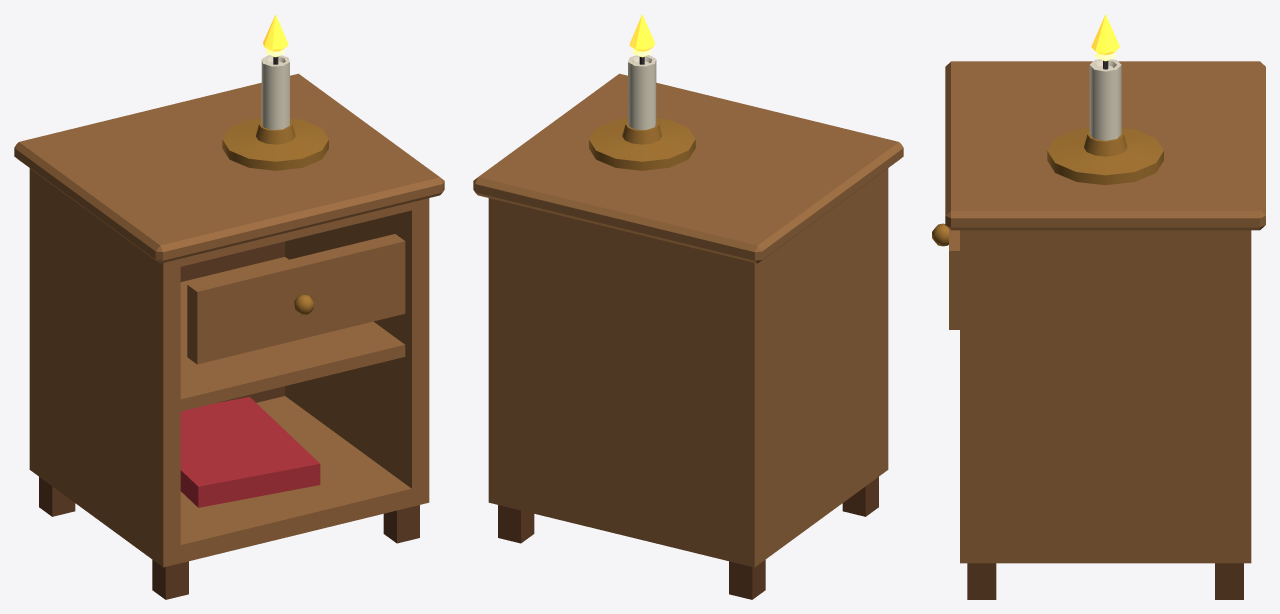
Rendered from nightstand.glb.
3 renders of one model, left to right at view 1: azimuth 30°, elevation 25°; view 2: azimuth 150°, elevation 25°; view 3: azimuth 270°, elevation 25°, orthographic. The views are drawn at different scales.
Visible parts, largest first — view 1: Bedside table case, Bedside table top, Bedside table drawer, Bedside table book, Bedside table shelf, Candle holder, Bedside table legs, Candle, Candle flame; view 2: Bedside table case, Bedside table top, Candle holder, Bedside table legs, Candle, Candle flame; view 3: Bedside table case, Bedside table top, Candle holder, Candle, Bedside table legs, Bedside table drawer, Candle flame.
Part boxes in pixels (x1=…): Bedside table case: x1=29, y1=168, x2=429, y2=567; Bedside table top: x1=14, y1=73, x2=444, y2=263; Bedside table drawer: x1=187, y1=234, x2=405, y2=364; Bedside table book: x1=180, y1=397, x2=320, y2=507; Bedside table shelf: x1=180, y1=257, x2=405, y2=411; Candle holder: x1=222, y1=118, x2=328, y2=170; Bedside table legs: x1=39, y1=477, x2=419, y2=599; Candle: x1=261, y1=55, x2=289, y2=129; Candle flame: x1=263, y1=14, x2=288, y2=57; Bedside table case: x1=488, y1=168, x2=888, y2=567; Bedside table top: x1=473, y1=73, x2=903, y2=263; Candle holder: x1=589, y1=118, x2=695, y2=170; Bedside table legs: x1=498, y1=477, x2=878, y2=599; Candle: x1=628, y1=55, x2=656, y2=129; Candle flame: x1=629, y1=14, x2=654, y2=57; Bedside table case: x1=960, y1=230, x2=1251, y2=563; Bedside table top: x1=945, y1=61, x2=1265, y2=230; Candle holder: x1=1047, y1=128, x2=1163, y2=185; Candle: x1=1089, y1=59, x2=1121, y2=140; Bedside table legs: x1=967, y1=563, x2=1243, y2=599; Bedside table drawer: x1=949, y1=228, x2=959, y2=329; Candle flame: x1=1091, y1=14, x2=1119, y2=61.
Size of the model in its own units: 0.5 by 0.822 by 0.4582.
